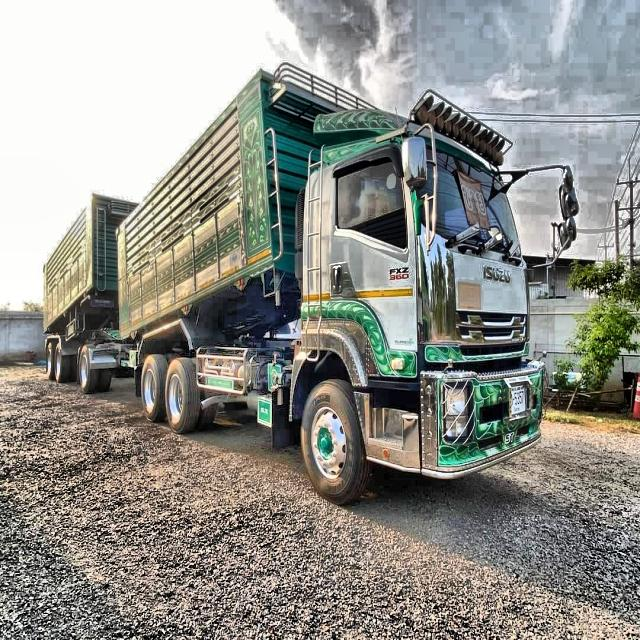trailer: (32, 56, 540, 521)
